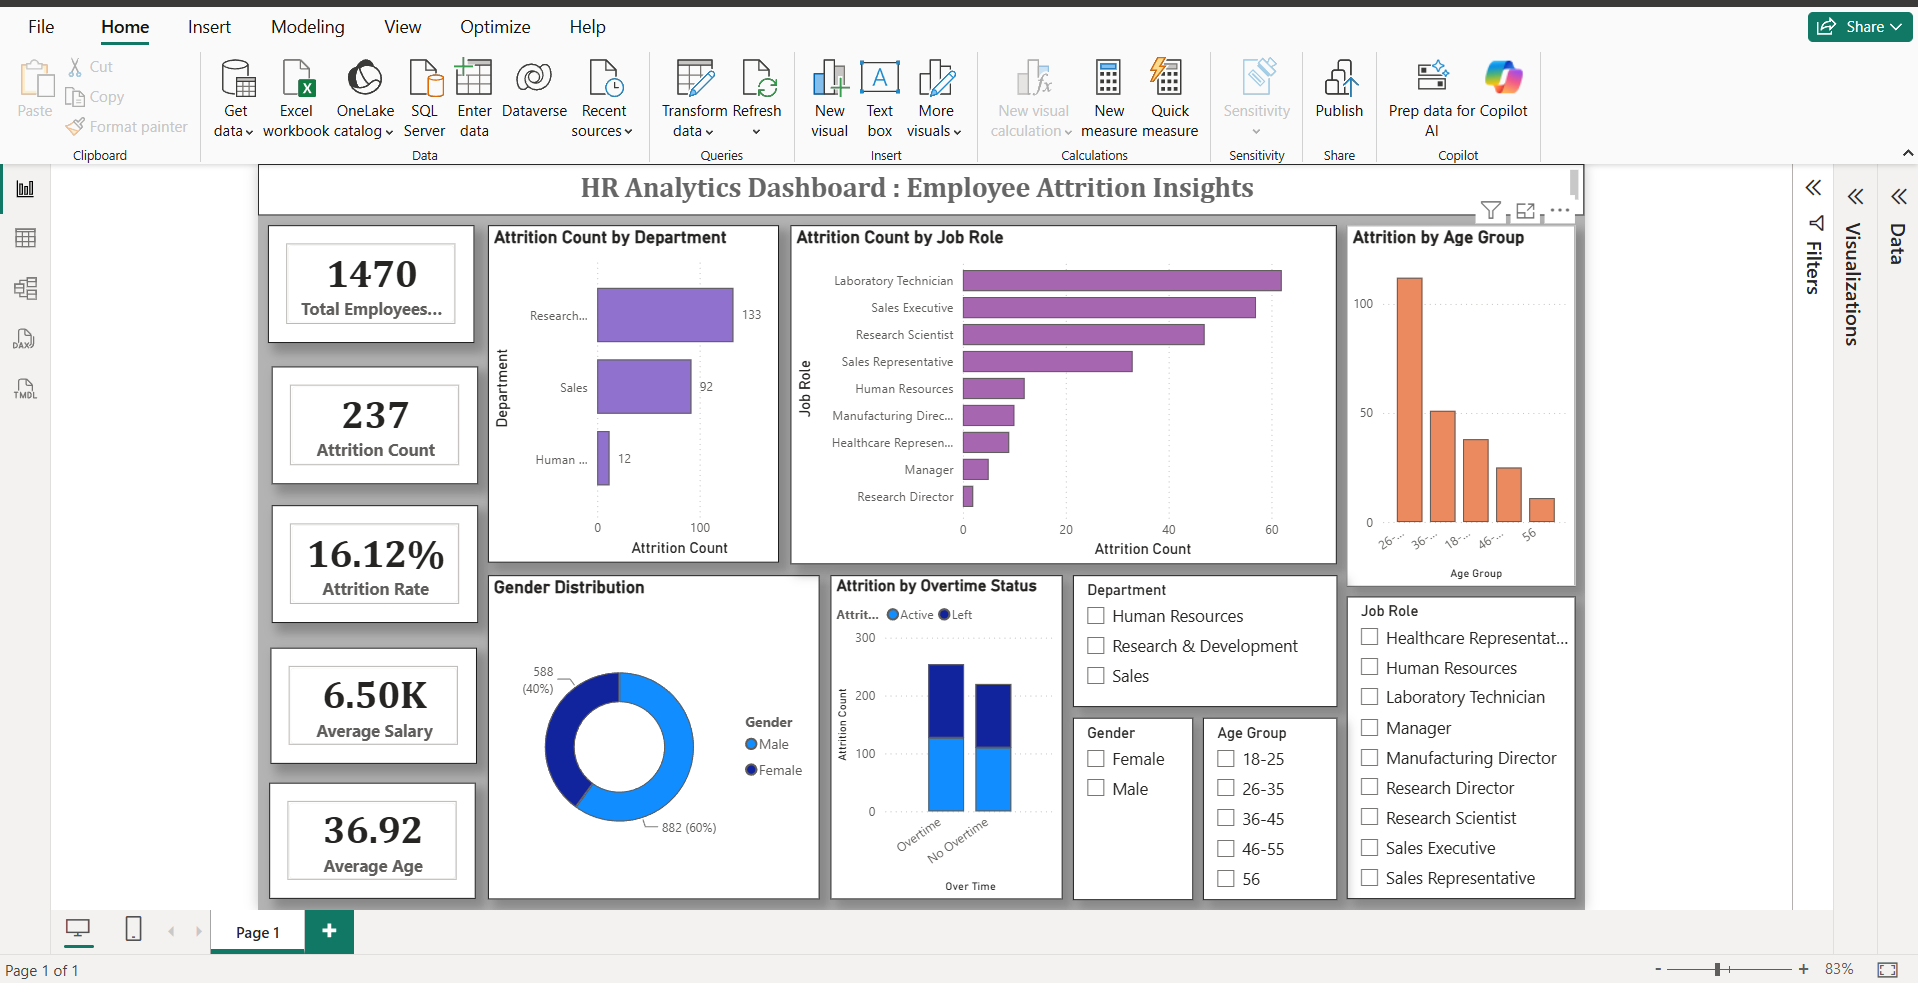

The dashboard page shown, as its layout file describes it:
{"tool":"powerbi","page":{"name":"Page 1","canvas":[1280,720],"ordinal":0},"visuals":[{"type":"textbox","box":[0,0,1280.3,49.4],"z":1000},{"type":"cardVisual","fields":{"Data":["HR-Employee-Attrition.Total Employees Text"]},"box":[9.7,59.1,199.1,113.4],"z":2000},{"type":"cardVisual","fields":{"Data":["HR-Employee-Attrition.Attrition Count"]},"box":[13.3,195.4,199.1,113.4],"z":3000},{"type":"cardVisual","fields":{"Data":["HR-Employee-Attrition.Attrition Rate"]},"box":[13.3,329.4,199.1,113.4],"z":4000},{"type":"cardVisual","fields":{"Data":["HR-Employee-Attrition.Average Salary"]},"box":[12.1,466.9,199.1,112.2],"z":5000},{"type":"cardVisual","fields":{"Data":["HR-Employee-Attrition.Average Age"]},"box":[10.9,597.2,199.1,112.2],"z":6000},{"type":"clusteredBarChart","fields":{"Category":["HR-Employee-Attrition.Department"],"Y":["HR-Employee-Attrition.Attrition Count"]},"box":[222,59.1,281.1,325.7],"z":7000},{"type":"donutChart","title":"Gender Distribution","fields":{"Category":["HR-Employee-Attrition.Gender"],"Y":["CountNonNull(HR-Employee-Attrition.Gender)"]},"box":[222.6,397.4,320.4,313],"z":8000},{"type":"clusteredBarChart","fields":{"Category":["HR-Employee-Attrition.Job Role"],"Y":["HR-Employee-Attrition.Attrition Count"]},"box":[513.9,59.1,527.2,326.9],"z":9000},{"type":"clusteredColumnChart","title":"Attrition by Age Group","fields":{"Category":["HR-Employee-Attrition.Age Group"],"Y":["HR-Employee-Attrition.Attrition Count"]},"box":[1050.8,59.1,220.8,348.7],"z":10000},{"type":"columnChart","title":"Attrition by Overtime Status","fields":{"Category":["HR-Employee-Attrition.Over Time"],"Series":["HR-Employee-Attrition.Attrition"],"Y":["HR-Employee-Attrition.Attrition Count"]},"box":[552.7,397.4,223.8,313],"z":11000},{"type":"slicer","fields":{"Values":["HR-Employee-Attrition.Department"]},"box":[786.3,397.4,255.6,127.2],"z":12000},{"type":"slicer","fields":{"Values":["HR-Employee-Attrition.Gender"]},"box":[786.3,534.4,116.2,176.1],"z":13000},{"type":"slicer","fields":{"Values":["HR-Employee-Attrition.Job Role"]},"box":[1050.8,417.4,220.8,292],"z":14000},{"type":"slicer","fields":{"Values":["HR-Employee-Attrition.Age Group"]},"box":[912.2,534.4,129.6,176.1],"z":15000}]}

Visuals, with their boxes on the page's 1280x720 design canvas (x1, y1, x2, y2). These are canvas units, not pixel positions in the 1918x983 screenshot, which may show the page scaled, cropped or inside an application window:
textbox: (left=0, top=0, right=1280, bottom=49)
cardVisual - HR-Employee-Attrition.Total Employees Text: (left=10, top=59, right=209, bottom=172)
cardVisual - HR-Employee-Attrition.Attrition Count: (left=13, top=195, right=212, bottom=309)
cardVisual - HR-Employee-Attrition.Attrition Rate: (left=13, top=329, right=212, bottom=443)
cardVisual - HR-Employee-Attrition.Average Salary: (left=12, top=467, right=211, bottom=579)
cardVisual - HR-Employee-Attrition.Average Age: (left=11, top=597, right=210, bottom=709)
clusteredBarChart - HR-Employee-Attrition.Department x HR-Employee-Attrition.Attrition Count: (left=222, top=59, right=503, bottom=385)
"Gender Distribution" donutChart: (left=223, top=397, right=543, bottom=710)
clusteredBarChart - HR-Employee-Attrition.Job Role x HR-Employee-Attrition.Attrition Count: (left=514, top=59, right=1041, bottom=386)
"Attrition by Age Group" clusteredColumnChart: (left=1051, top=59, right=1272, bottom=408)
"Attrition by Overtime Status" columnChart: (left=553, top=397, right=776, bottom=710)
slicer - HR-Employee-Attrition.Department: (left=786, top=397, right=1042, bottom=525)
slicer - HR-Employee-Attrition.Gender: (left=786, top=534, right=902, bottom=710)
slicer - HR-Employee-Attrition.Job Role: (left=1051, top=417, right=1272, bottom=709)
slicer - HR-Employee-Attrition.Age Group: (left=912, top=534, right=1042, bottom=710)
